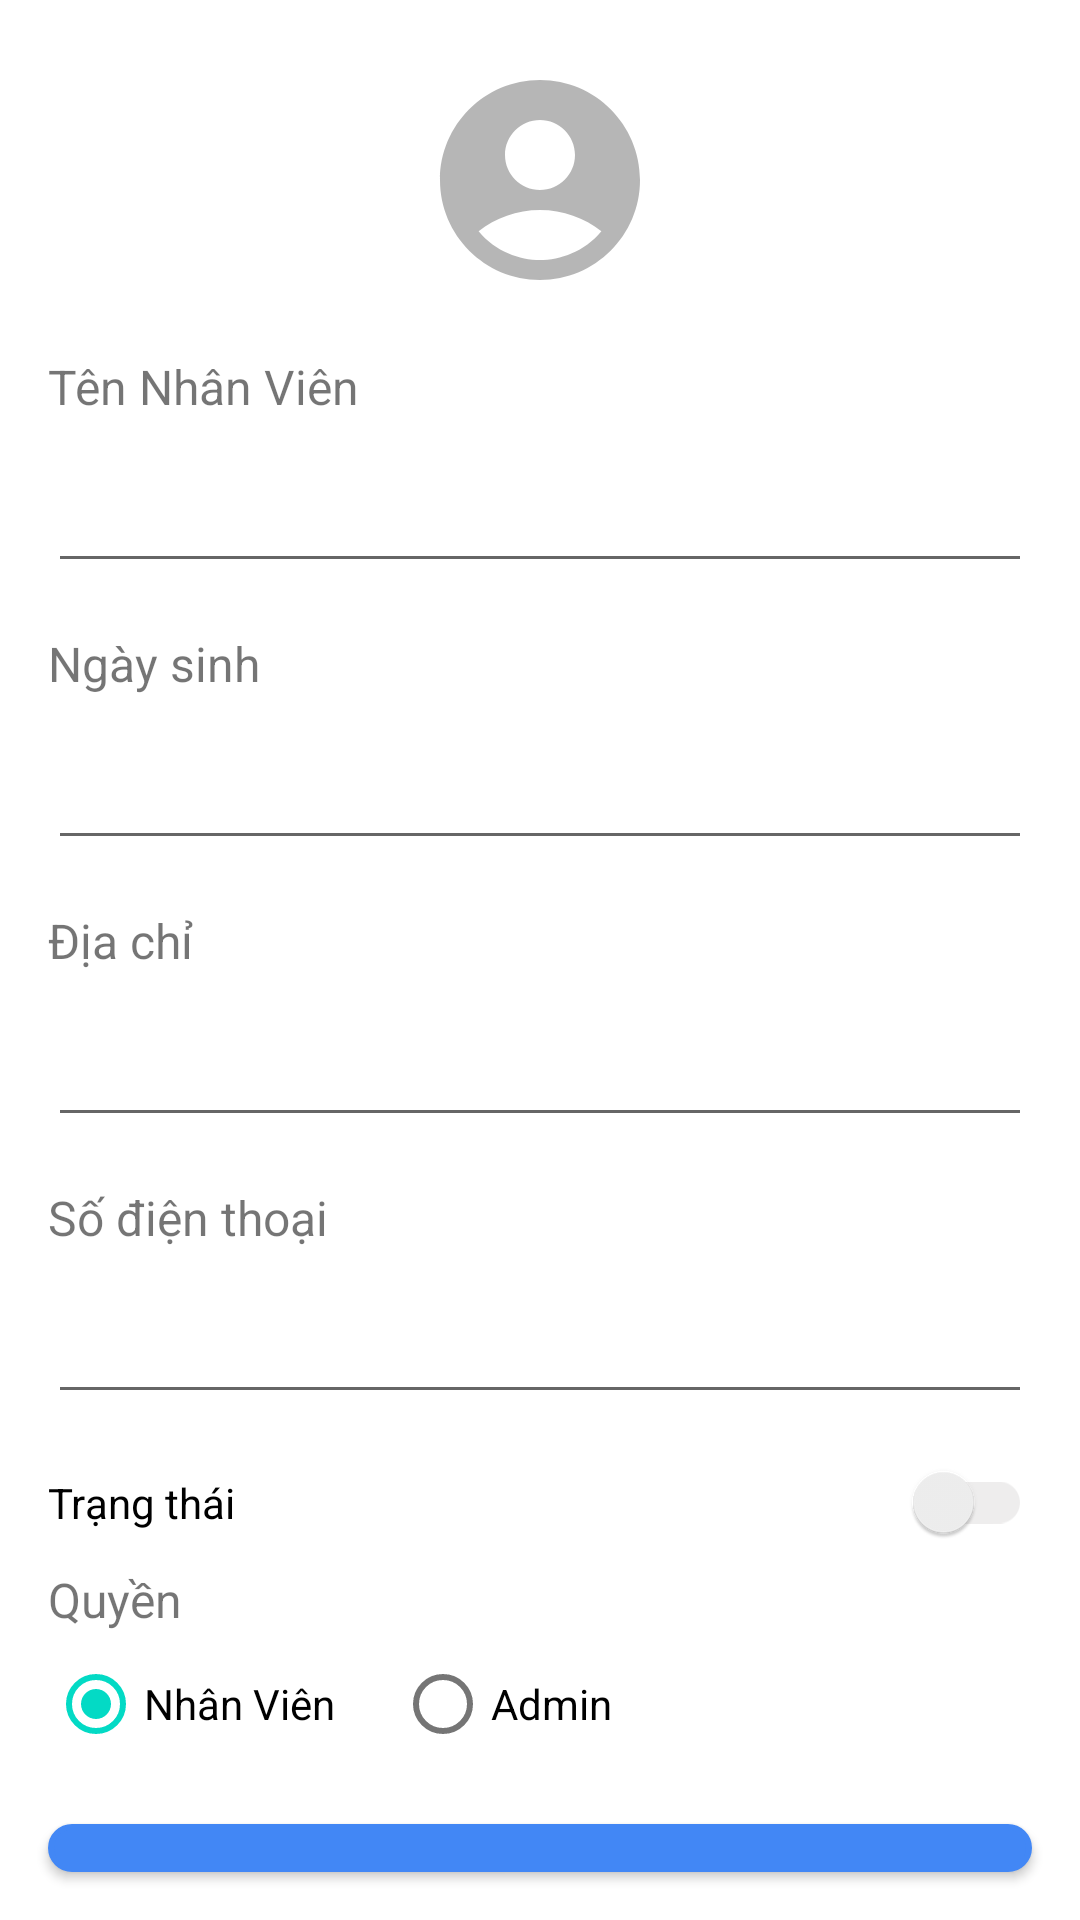

Icon click points for this 1080x1920 phone screenshot, format (x=x, y=y):
account circle: (x=540, y=180)
